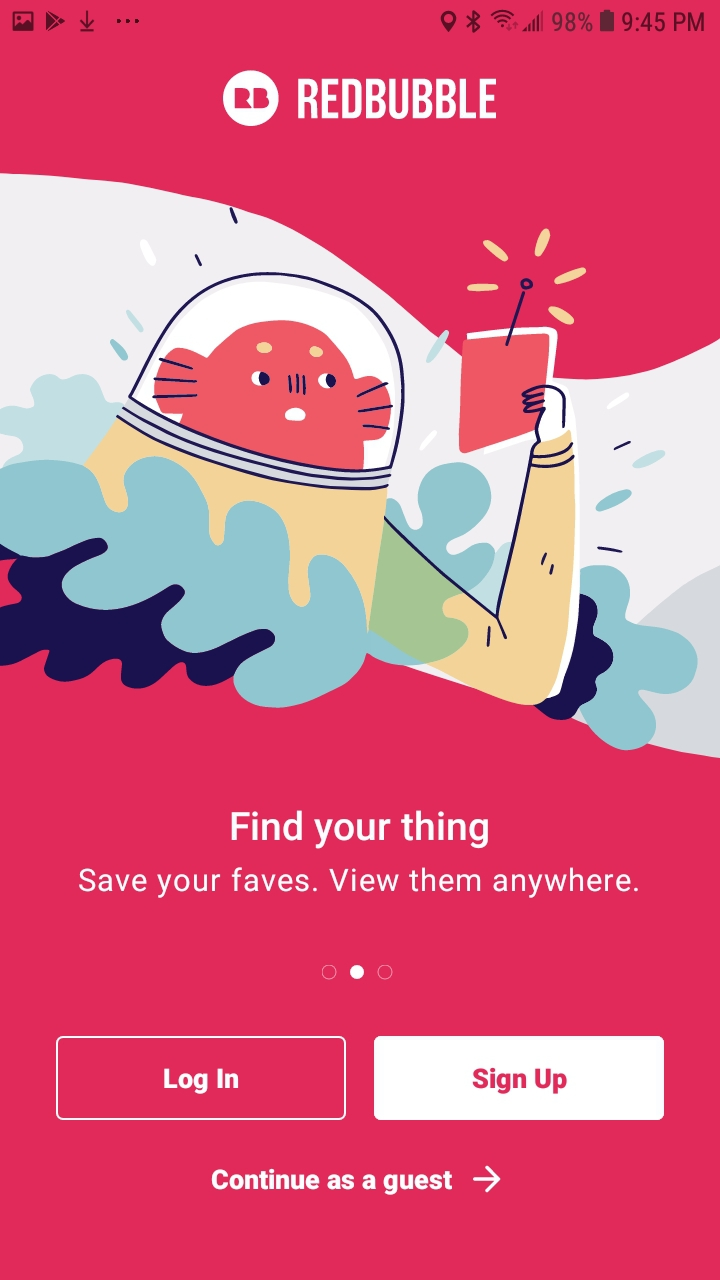Icon: (472, 1165, 501, 1193)
Image: (1, 172, 720, 761), (222, 70, 280, 128)
PageIndicator: (321, 964, 394, 981)
Text: (79, 867, 639, 899), (231, 809, 489, 849), (298, 78, 497, 120), (212, 1168, 453, 1196)
TextButton: (56, 1036, 347, 1121), (374, 1036, 665, 1121)
UpperTaskBar: (1, 1, 720, 35)
